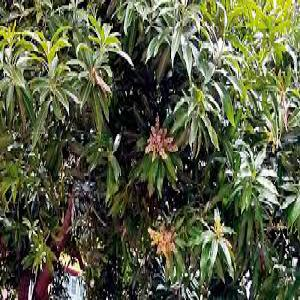Tree: (5, 7, 292, 293)
